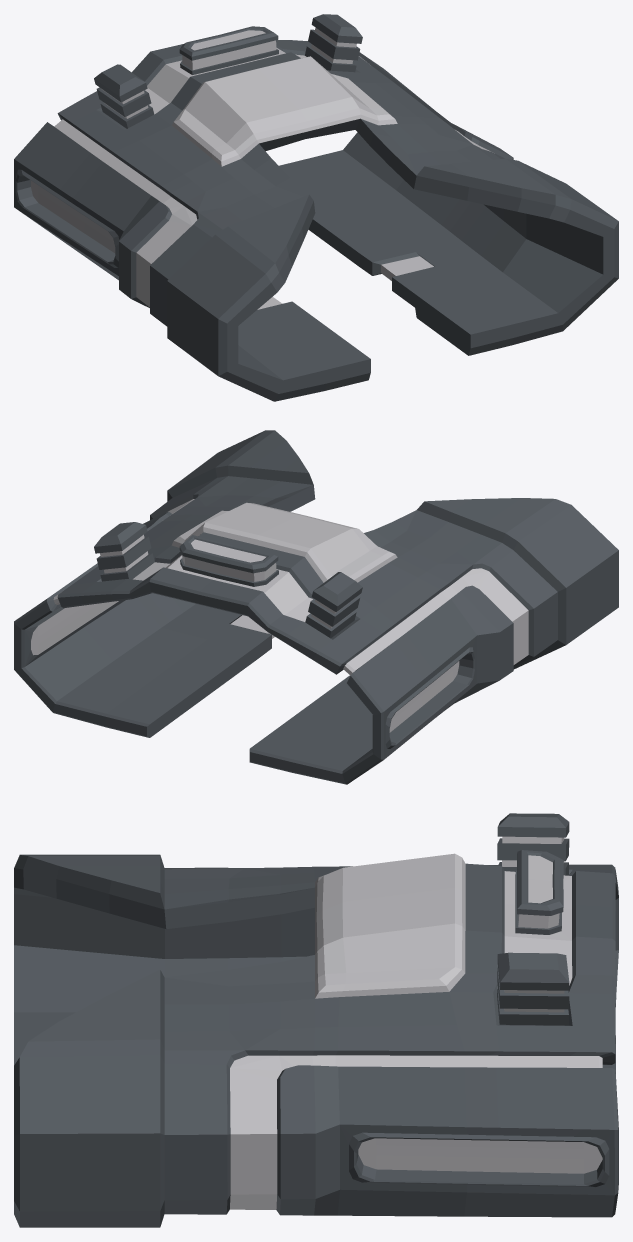
File: Fighter_01_Rear_Outer_Frame.fbx
The picture shows the model from 3 angles, top to bottom: view 1: azimuth 30°, elevation 25°; view 2: azimuth 150°, elevation 25°; view 3: azimuth 270°, elevation 25°; orthographic projection. The views are drawn at different scales.
Parts seen in each view (by area): view 1: Fighter_01_Rear_Outer_Frame; view 2: Fighter_01_Rear_Outer_Frame; view 3: Fighter_01_Rear_Outer_Frame.
Boxes of the visible parts, left/top/right/bottom form: Fighter_01_Rear_Outer_Frame: left=14, top=14, right=618, bottom=401; Fighter_01_Rear_Outer_Frame: left=14, top=430, right=618, bottom=784; Fighter_01_Rear_Outer_Frame: left=14, top=813, right=618, bottom=1227.
Bounding box in the file's own units: 453 × 205 × 437.
Materials: 1 (1 with a texture image).
